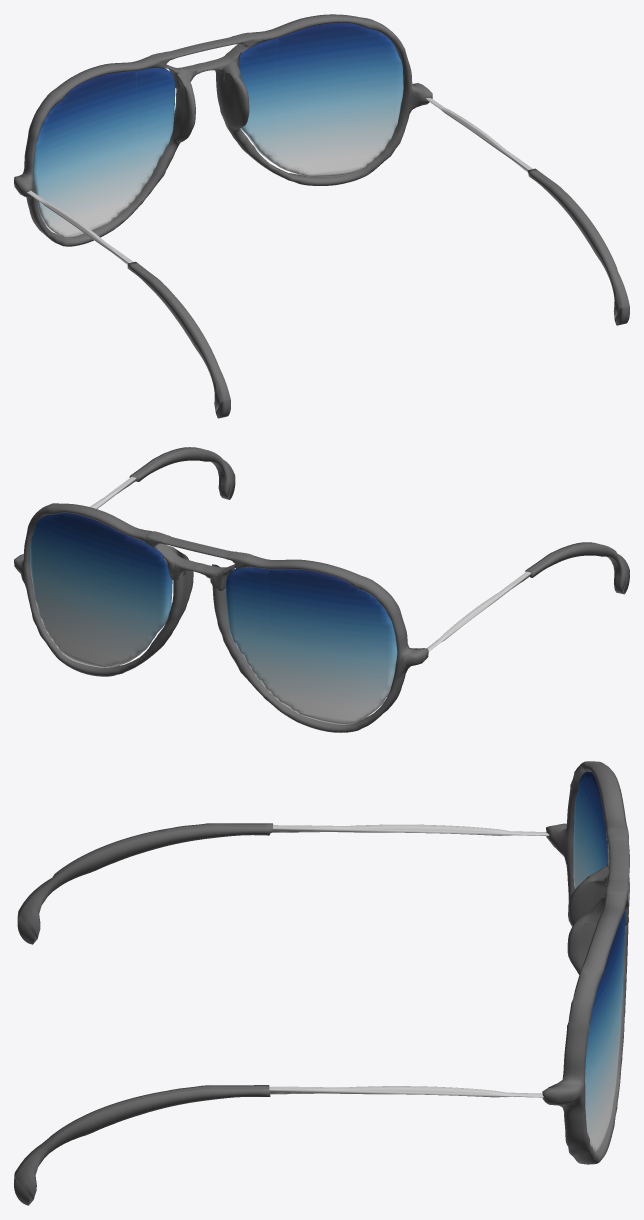
File: glasses2.glb
3 views of the same model, one above another, from view 1: azimuth 30°, elevation 25°; view 2: azimuth 150°, elevation 25°; view 3: azimuth 270°, elevation 25° (orthographic). The views are drawn at different scales.
Parts seen in each view (by area): view 1: glasses2.obj; view 2: glasses2.obj; view 3: glasses2.obj.
Part boxes in pixels (box(x1,y1,x2,y2)): glasses2.obj: box(14, 14, 629, 418); glasses2.obj: box(14, 447, 629, 732); glasses2.obj: box(14, 761, 629, 1205).
Bounding box in the file's own units: 8.62 × 3.41 × 8.45.
5 materials, 1 textured.
